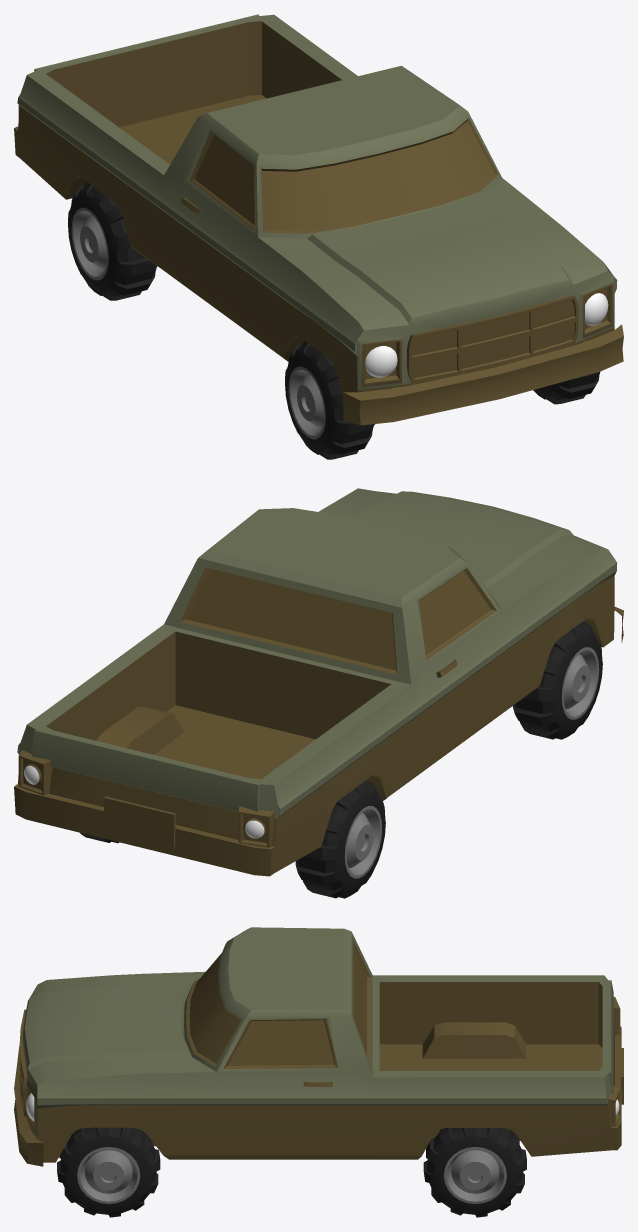
Rendered from citypack-pickup.glb.
3 views of the same model, one above another, from view 1: azimuth 30°, elevation 25°; view 2: azimuth 150°, elevation 25°; view 3: azimuth 270°, elevation 25° (orthographic). The views are drawn at different scales.
Visible parts, largest first — view 1: body, wheel-back-left, wheel-front-left, wheel-front-right; view 2: body, wheel-back-left, wheel-front-left; view 3: body, wheel-back-right, wheel-front-right.
Boxes of the visible parts, <box> form: body: <box>14,14,623,425</box>; wheel-back-left: <box>68,182,157,300</box>; wheel-front-left: <box>285,340,374,459</box>; wheel-front-right: <box>533,372,600,404</box>; body: <box>14,488,623,876</box>; wheel-back-left: <box>295,780,385,898</box>; wheel-front-left: <box>512,621,602,739</box>; body: <box>14,927,623,1166</box>; wheel-back-right: <box>423,1128,526,1217</box>; wheel-front-right: <box>57,1127,160,1217</box>.
Size of the model in its own units: 2.31 by 1.85 by 5.18.
Materials: 1 (1 with a texture image).
